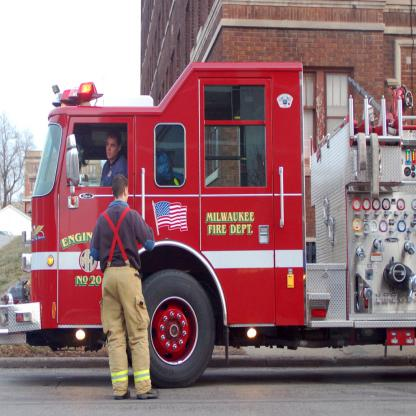Truck: (0, 62, 415, 389)
